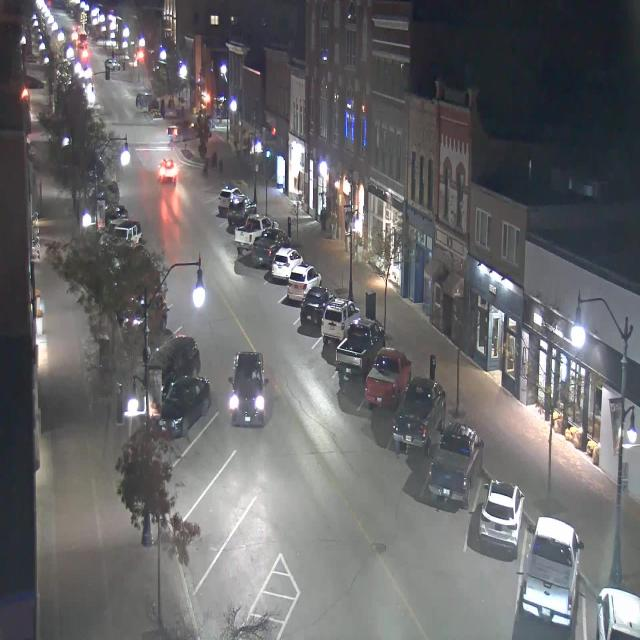available: (230, 479, 292, 586), (212, 448, 260, 524), (197, 408, 239, 473)
occupied: (520, 514, 584, 630), (428, 420, 483, 509), (391, 375, 446, 456), (478, 478, 525, 558), (158, 374, 211, 439), (335, 315, 385, 381), (228, 349, 268, 426), (364, 346, 411, 410), (151, 328, 204, 382), (596, 586, 640, 639), (320, 296, 360, 346), (253, 225, 291, 272), (232, 215, 270, 257), (299, 285, 336, 327), (286, 262, 322, 303), (271, 245, 303, 281), (225, 193, 258, 226), (217, 181, 242, 216)
